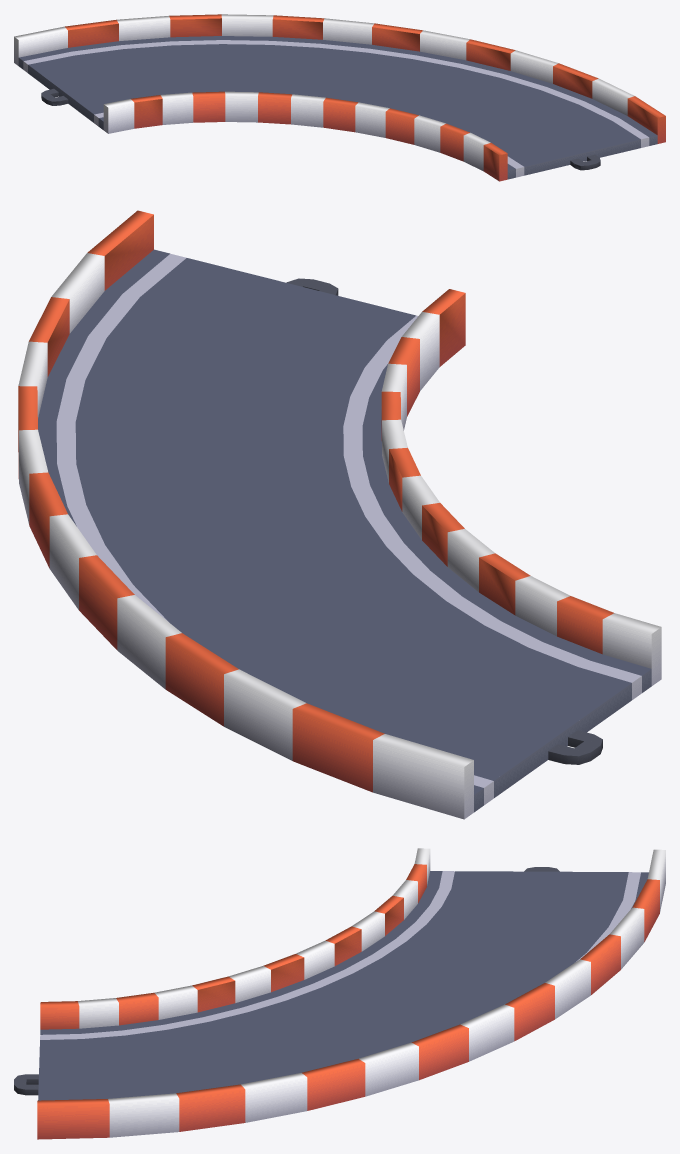
The model's file is track-road-wide-corner-large_lev2.glb.
3 views of the same model, one above another, from view 1: azimuth 30°, elevation 25°; view 2: azimuth 150°, elevation 25°; view 3: azimuth 270°, elevation 25° (orthographic). The views are drawn at different scales.
Parts seen in each view (by area): view 1: track-road-wide-corner-large_lev2; view 2: track-road-wide-corner-large_lev2; view 3: track-road-wide-corner-large_lev2.
Part boxes in pixels (left/top/right/bottom): track-road-wide-corner-large_lev2: left=14, top=14, right=665, bottom=181; track-road-wide-corner-large_lev2: left=18, top=210, right=661, bottom=819; track-road-wide-corner-large_lev2: left=14, top=848, right=665, bottom=1139.
Bounding box in the file's own units: 5.09 × 0.3 × 5.25.
Materials: 1 (1 with a texture image).
